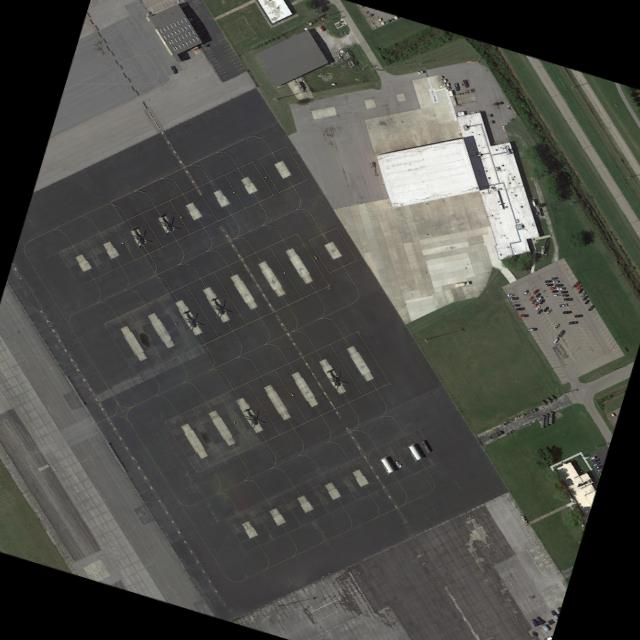ship: (530, 618, 537, 626), (535, 616, 542, 624)
small-vehicle: (535, 294, 543, 301), (587, 304, 594, 311), (572, 280, 579, 287), (557, 329, 564, 336), (170, 65, 176, 73), (583, 298, 590, 304), (581, 294, 588, 300), (553, 322, 559, 329), (542, 305, 549, 311), (577, 287, 583, 293), (579, 291, 585, 297), (552, 337, 558, 343), (536, 308, 542, 314), (534, 304, 540, 310), (522, 289, 528, 295), (534, 291, 540, 297), (545, 308, 551, 314), (592, 461, 599, 466), (515, 306, 523, 310), (319, 24, 324, 30), (575, 284, 581, 289), (595, 464, 601, 469), (591, 458, 597, 463), (532, 301, 538, 306), (530, 298, 535, 304), (532, 288, 538, 293), (539, 298, 545, 303), (589, 455, 596, 459), (568, 320, 577, 323), (558, 303, 567, 306), (528, 295, 533, 300), (554, 283, 562, 286), (563, 297, 571, 300), (573, 314, 581, 317), (518, 313, 526, 316), (527, 327, 535, 330), (548, 286, 555, 289), (544, 279, 551, 282), (550, 276, 557, 279), (552, 279, 559, 282), (561, 293, 568, 296), (551, 289, 558, 292), (563, 310, 570, 313), (513, 303, 520, 306), (544, 283, 553, 285), (556, 287, 564, 289), (508, 297, 516, 299), (553, 293, 560, 295), (560, 290, 567, 292), (506, 293, 513, 295)
